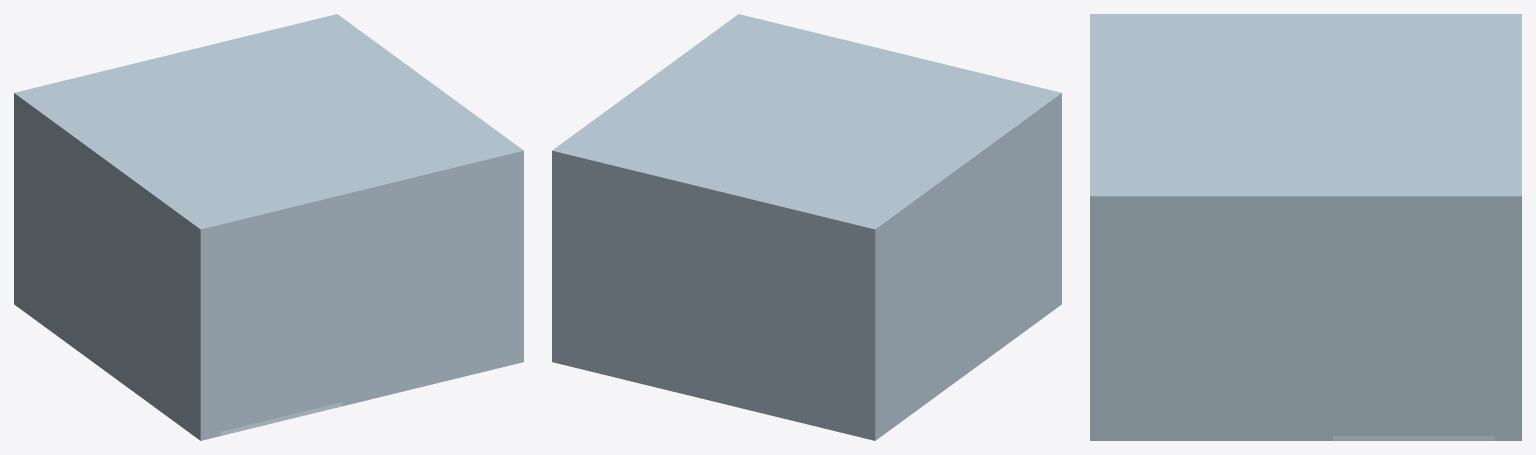
Rendered from rill-bend-mirror.glb.
3 renders of one model, left to right at view 1: azimuth 30°, elevation 25°; view 2: azimuth 150°, elevation 25°; view 3: azimuth 270°, elevation 25°, orthographic. The views are drawn at different scales.
Parts seen in each view (by area): view 1: ice-rock_7, ice-rock_2, ice-rock_3, plug_rill_south, ice-rock_4, ice-rock_6, ice-rock_1, plug_rill_south.001, ice_3; view 2: ice-rock_7, ice-rock_1, ice-rock_2; view 3: ice-rock_7, ice-rock_3, plug_rill_east, ice-rock_1, ice-rock_5, plug_rill_east.001, ice_1.
Boxes of the visible parts, x1,y1,x2,y2 form: ice-rock_7: (14,14,523,250); ice-rock_2: (25,123,220,440); ice-rock_3: (382,172,523,396); plug_rill_south: (221,237,341,414); ice-rock_4: (342,206,382,406); ice-rock_6: (221,216,341,266); ice-rock_1: (14,114,25,312); plug_rill_south.001: (221,385,341,431); ice_3: (221,402,341,435); ice-rock_7: (552,14,1061,250); ice-rock_1: (552,172,886,440); ice-rock_2: (887,114,1061,431); ice-rock_7: (1090,14,1521,220); ice-rock_3: (1090,221,1332,440); plug_rill_east: (1333,245,1494,416); ice-rock_1: (1495,221,1521,440); ice-rock_5: (1333,221,1494,245); plug_rill_east.001: (1333,416,1494,435); ice_1: (1333,436,1494,440).
Size of the model in its own units: 8 by 5 by 8.
